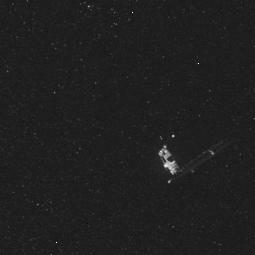lisa_pathfinder: (139, 116, 242, 189)
